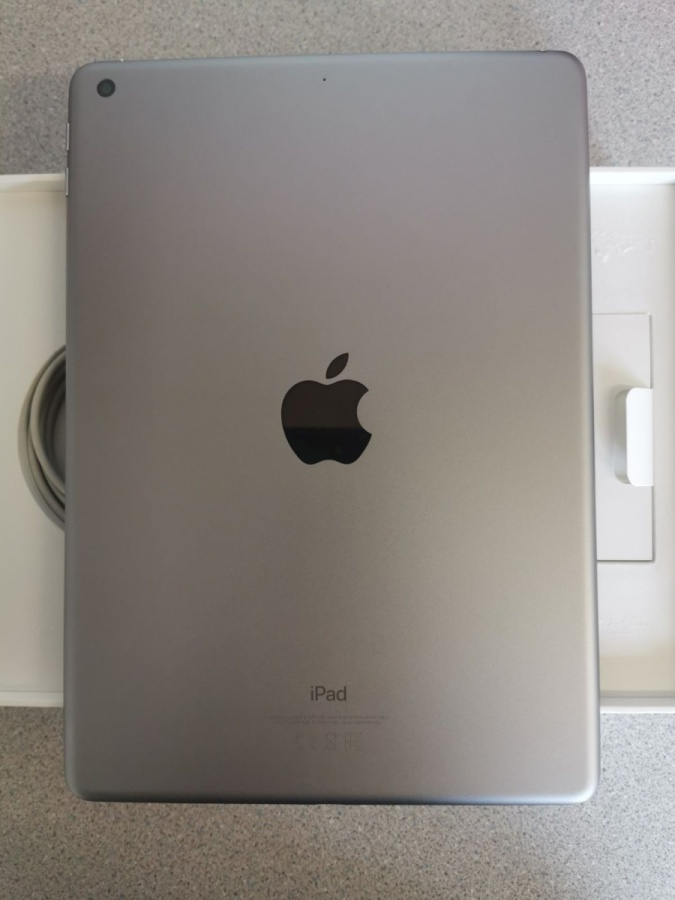apple: (261, 321, 409, 509)
